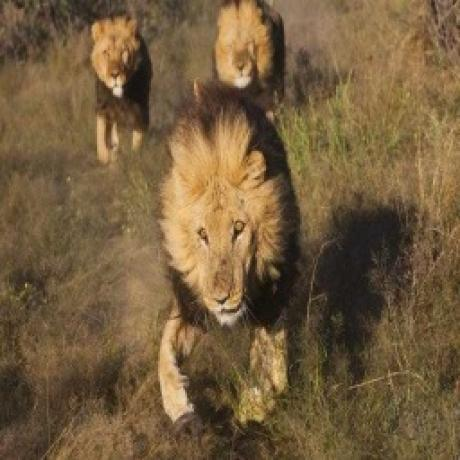Lion: (156, 85, 305, 430), (86, 16, 151, 160), (208, 0, 289, 104)
